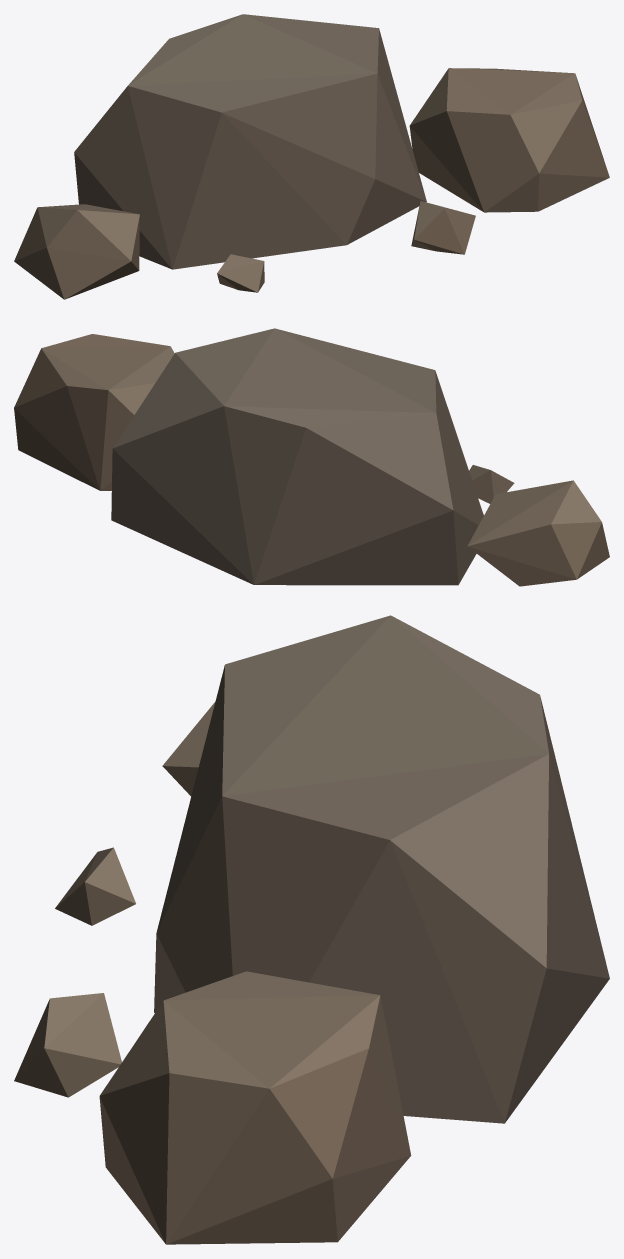
Rendered from tl_env_rock_cluster_c_v01.glb.
3 views of the same model, one above another, from view 1: azimuth 30°, elevation 25°; view 2: azimuth 150°, elevation 25°; view 3: azimuth 270°, elevation 25° (orthographic). The views are drawn at different scales.
Parts seen in each view (by area): view 1: tl_env_rock_cluster_c_v01; view 2: tl_env_rock_cluster_c_v01; view 3: tl_env_rock_cluster_c_v01.
Boxes of the visible parts, box(x1,y1,x2,y2) form: tl_env_rock_cluster_c_v01: box(14, 14, 609, 299); tl_env_rock_cluster_c_v01: box(14, 328, 609, 586); tl_env_rock_cluster_c_v01: box(14, 615, 609, 1244).
Bounding box in the file's own units: 4.14 × 1.07 × 2.19.
